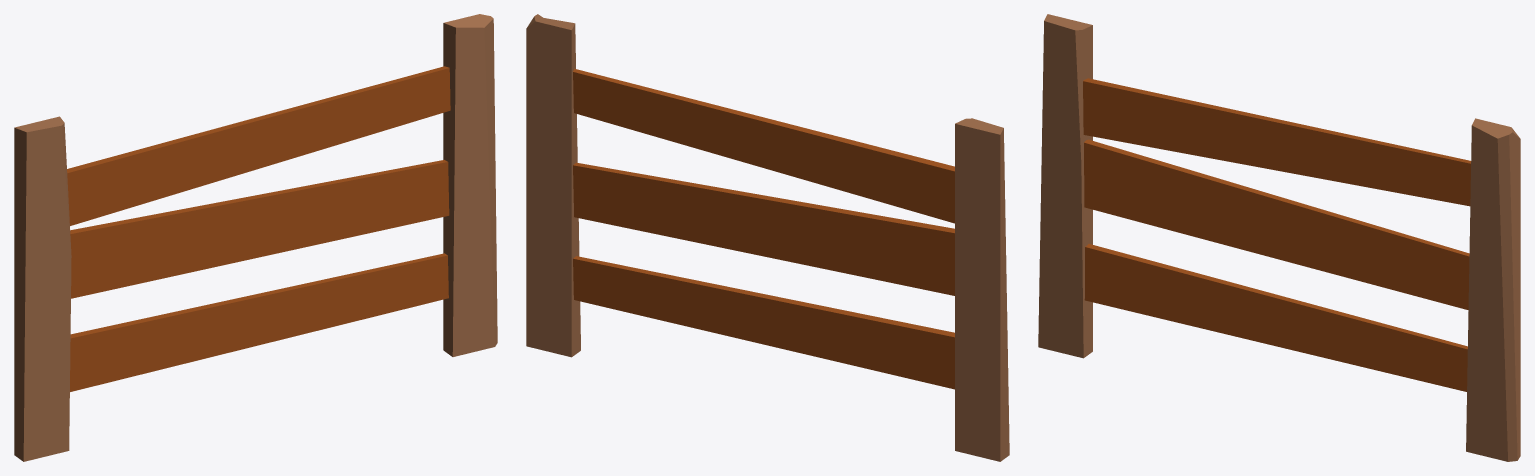
The model's file is Fence_a.FBX.
3 views of the same model, side by side, from view 1: azimuth 30°, elevation 25°; view 2: azimuth 150°, elevation 25°; view 3: azimuth 330°, elevation 25° (orthographic).
Parts seen in each view (by area): view 1: Fence_a; view 2: Fence_a; view 3: Fence_a.
Part boxes in pixels (x1,y1,x2,y2): Fence_a: (14, 14, 497, 461); Fence_a: (526, 14, 1009, 461); Fence_a: (1038, 14, 1520, 461).
Size of the model in its own units: 147 by 96.2 by 6.21.
